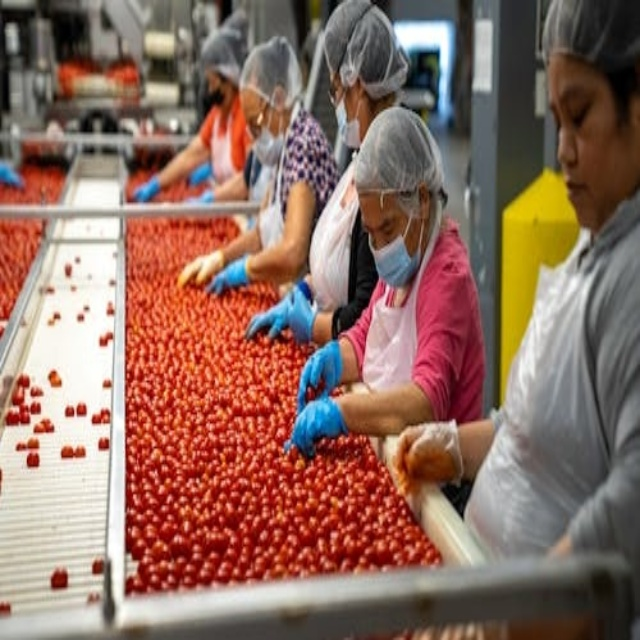Gafas: (240, 95, 276, 138), (329, 73, 347, 111)
Guantes: (390, 394, 474, 490), (244, 271, 310, 346), (287, 330, 343, 408), (293, 399, 346, 458), (201, 246, 255, 294), (284, 282, 319, 344), (127, 169, 164, 200)
Mascara: (364, 205, 424, 282), (243, 105, 282, 182), (330, 84, 365, 150), (201, 80, 227, 107)
Sin_gafas: (548, 77, 618, 137), (358, 196, 407, 241)
Sin_mascara: (559, 164, 602, 221)
